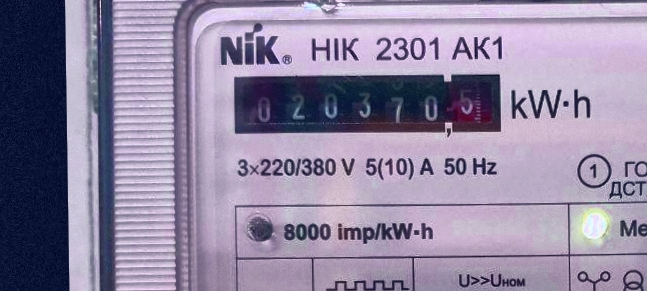0: (422, 93, 440, 123), (255, 93, 272, 122), (323, 90, 338, 118)
2: (289, 91, 307, 122)
3: (355, 89, 372, 119)
5: (457, 85, 476, 116)
7: (389, 94, 404, 124)
screen: (226, 66, 509, 145)
